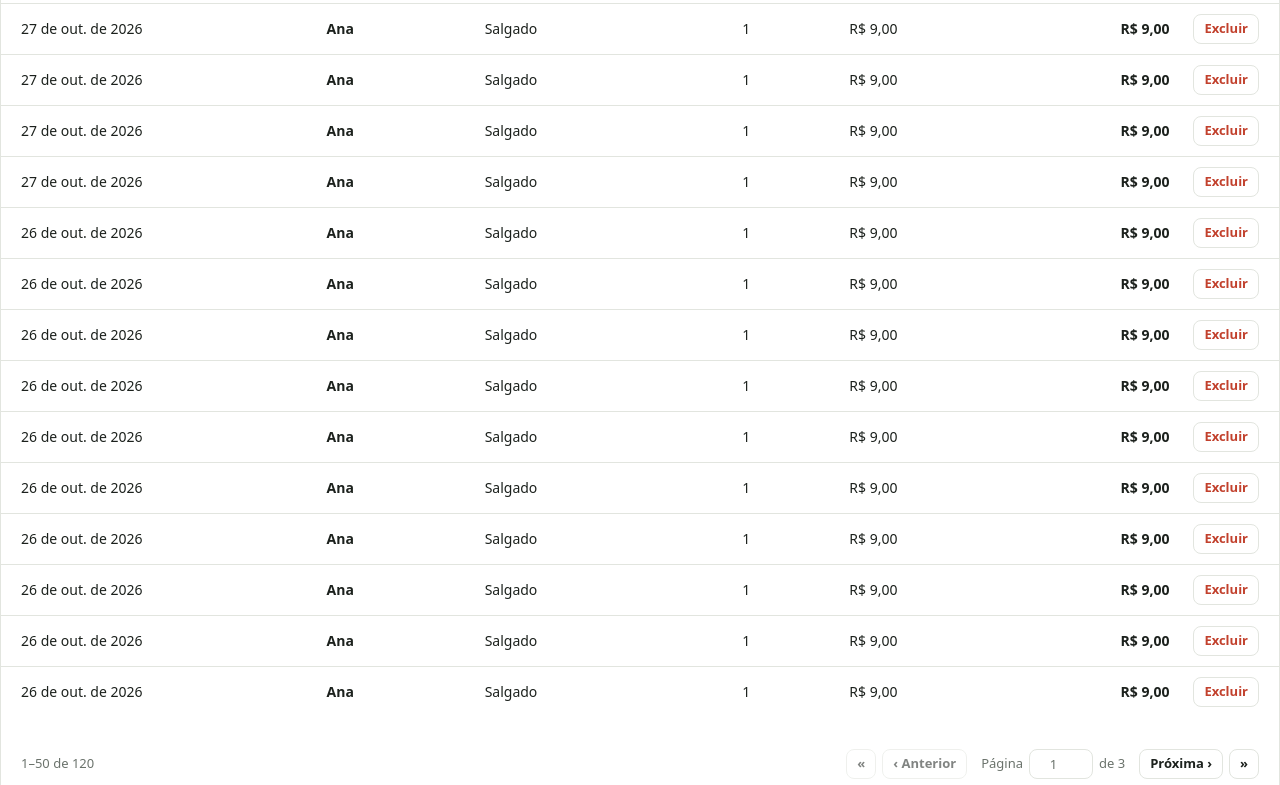
Test: filtering by buyer reloads from page 1 with that buyer's totals
(page scrolled)
Expected: the text "1–50 de 120" is shown, [21,754,94,774]
Step 1. Click the button "Próxima ›" → (1181, 764), box [1139,749,1223,779]
(page scrolled)
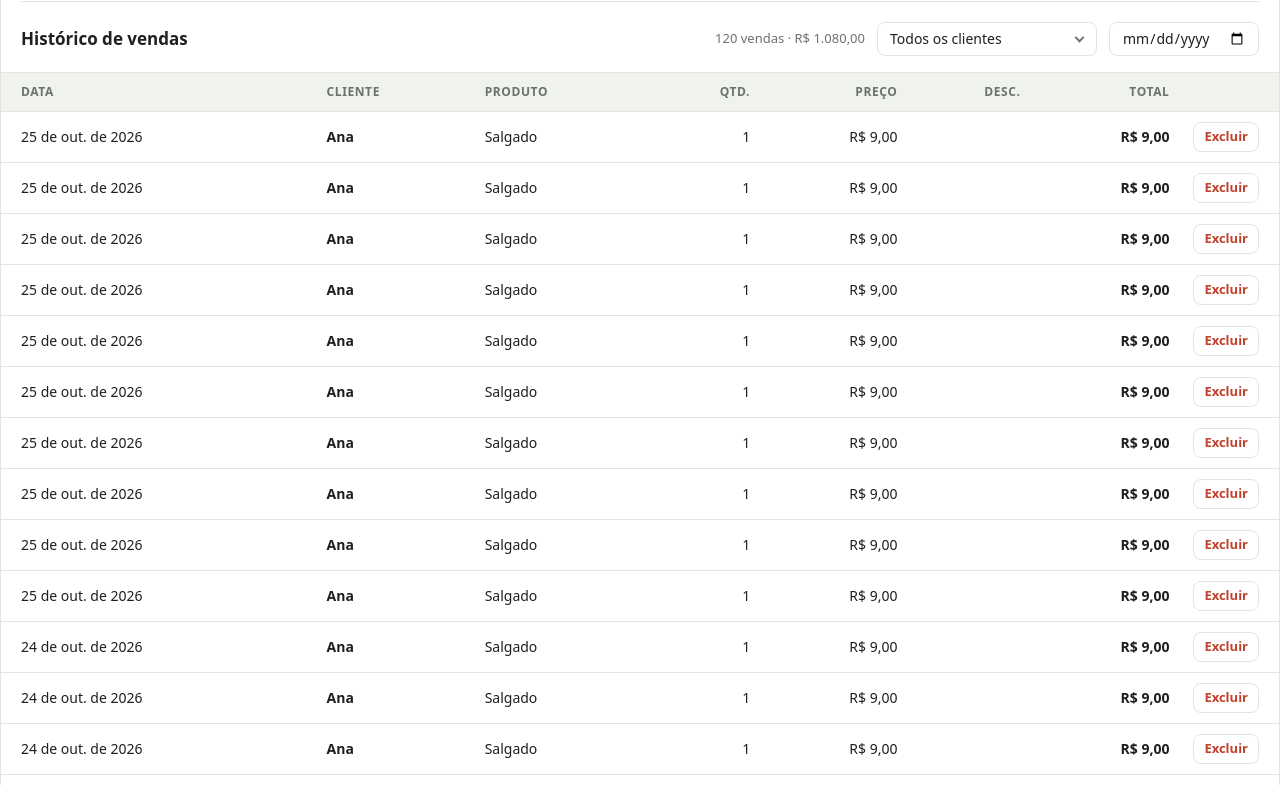
Step 2. Replace the text in the dropdown named "filtrar por cliente" with "bru" → (987, 39), box [877,22,1097,56]
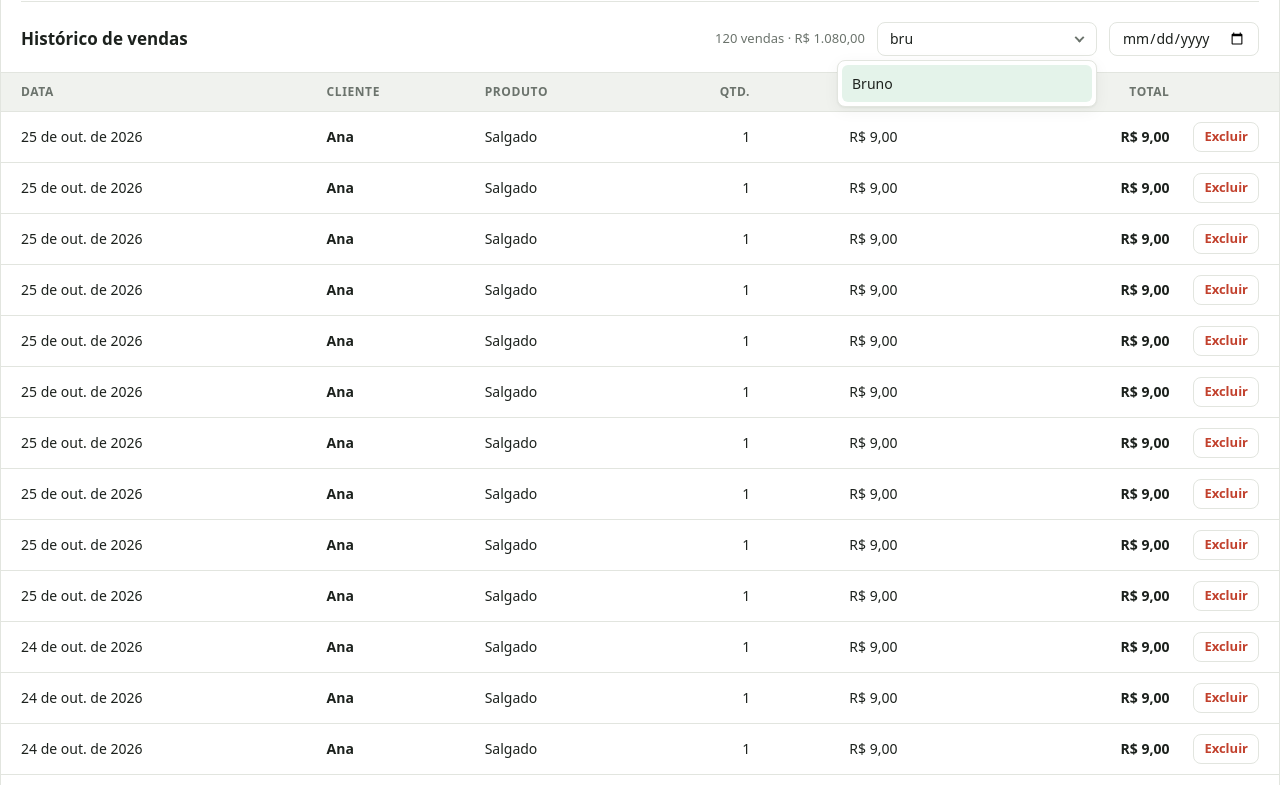
Step 3. Click the option "Bruno" → (967, 83), box [842,65,1092,102]
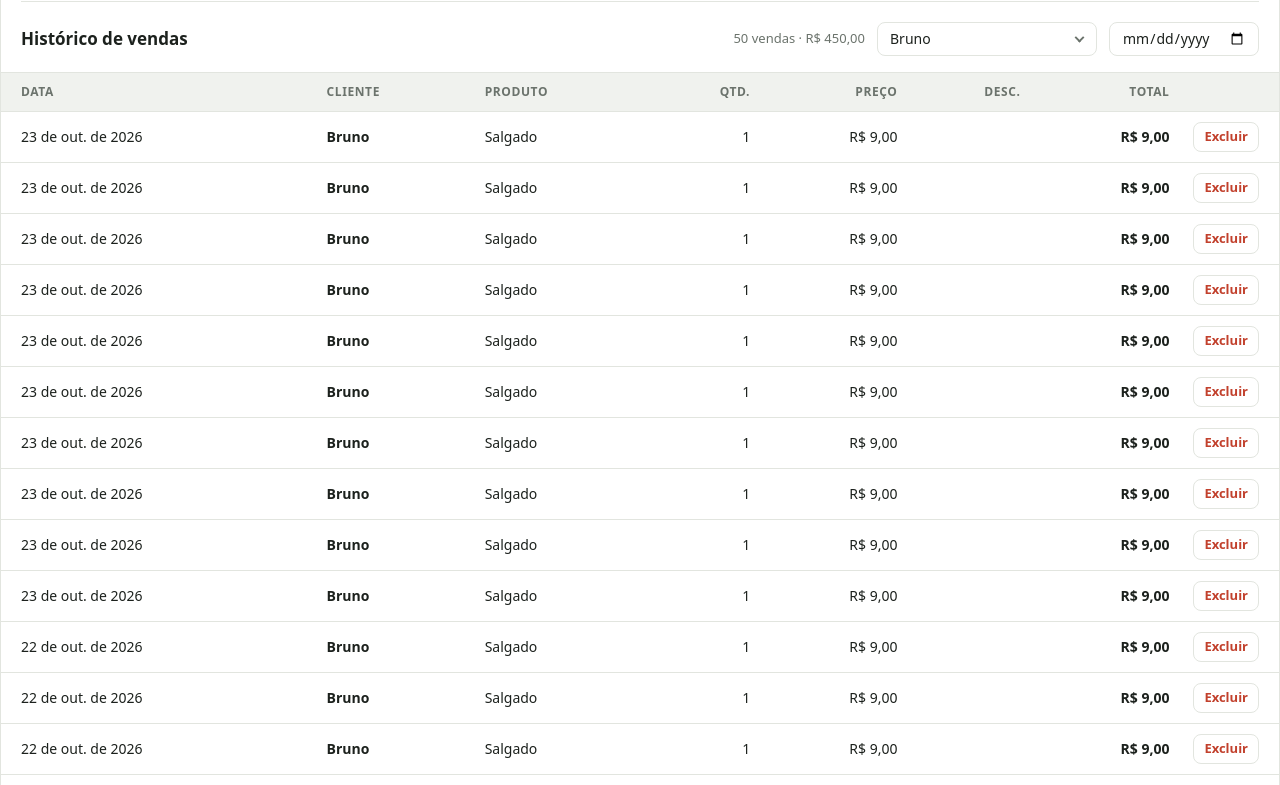
Expected: the text "50 vendas · R$ 450,00" is shown, [733,29,865,48]
